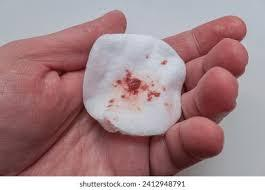cotton: (83, 34, 185, 135)
